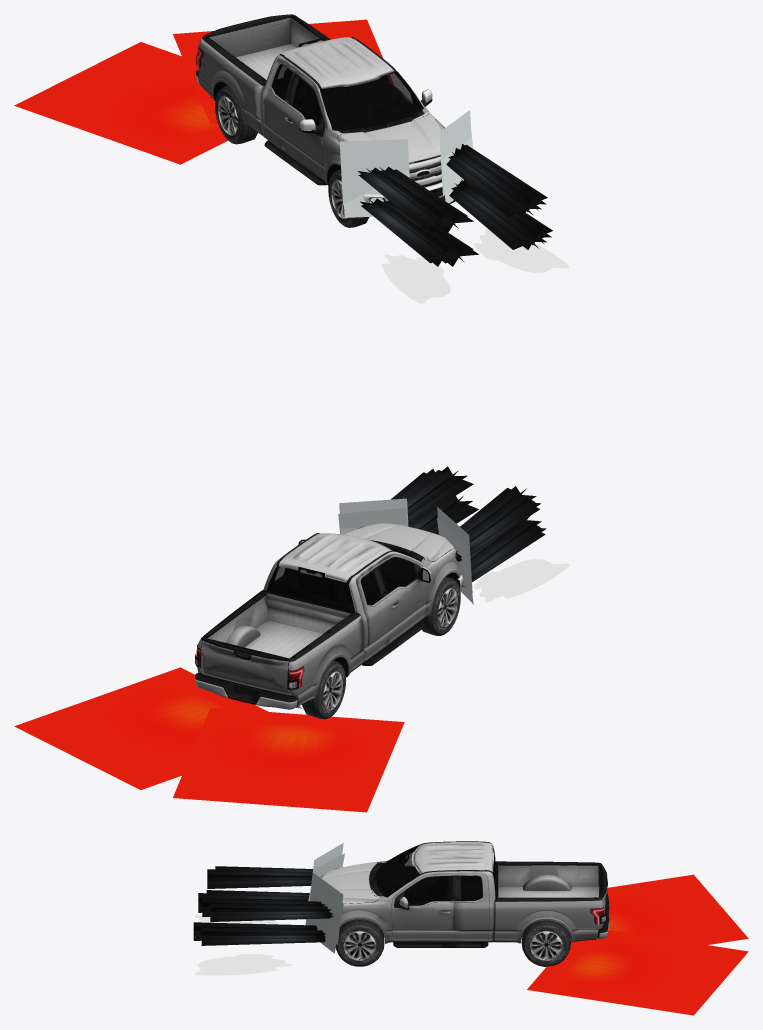
The picture shows the model from 3 angles, top to bottom: view 1: azimuth 30°, elevation 25°; view 2: azimuth 150°, elevation 25°; view 3: azimuth 270°, elevation 25°; orthographic projection. The views are drawn at different scales.
Visible parts, largest first — view 1: TailLightFlareGroundR, F1502015_Chassis, lights_position_front_glows2, lights_position_front_glows3, F1502015_glasses, HeadLightFlare, F1502015_Interior, F1502015_chassis_cargo, TailLightFlareGroundL, F1502015_trunk_cargo, HeadLightFlareGroundR, F1502015_hood (+4 smaller); view 2: TailLightFlareGroundR, TailLightFlareGroundL, F1502015_Chassis, F1502015_chassis_cargo, lights_position_front_glows2, F1502015_glasses, HeadLightFlare, lights_position_front_glows3, F1502015_trunk, F1502015_Interior, HeadLightFlareGroundR, F1502015_hood (+3 smaller); view 3: F1502015_Chassis, TailLightFlareGroundL, TailLightFlareGroundR, lights_position_front_glows2, F1502015_chassis_cargo, lights_position_front_glows3, F1502015_glasses, HeadLightFlare, F1502015_WheelBL, F1502015_WheelFL, F1502015_Interior, F1502015_hood (+3 smaller).
Boxes of the visible parts, left/top/right/bottom form: TailLightFlareGroundR: left=14, top=42, right=227, bottom=164; F1502015_Chassis: left=198, top=14, right=445, bottom=185; lights_position_front_glows2: left=357, top=144, right=547, bottom=233; lights_position_front_glows3: left=360, top=179, right=552, bottom=266; F1502015_glasses: left=272, top=65, right=423, bottom=130; HeadLightFlare: left=339, top=110, right=473, bottom=217; F1502015_Interior: left=271, top=68, right=421, bottom=130; F1502015_chassis_cargo: left=202, top=14, right=441, bottom=183; TailLightFlareGroundL: left=173, top=19, right=393, bottom=124; F1502015_trunk_cargo: left=204, top=14, right=291, bottom=57; HeadLightFlareGroundR: left=382, top=254, right=450, bottom=303; F1502015_hood: left=337, top=111, right=443, bottom=163; TailLightFlareGroundR: left=173, top=707, right=404, bottom=812; TailLightFlareGroundL: left=14, top=667, right=299, bottom=789; F1502015_Chassis: left=197, top=526, right=460, bottom=706; F1502015_chassis_cargo: left=201, top=554, right=456, bottom=667; lights_position_front_glows2: left=391, top=466, right=541, bottom=561; F1502015_glasses: left=268, top=543, right=416, bottom=611; HeadLightFlare: left=338, top=498, right=473, bottom=604; lights_position_front_glows3: left=408, top=496, right=546, bottom=588; F1502015_trunk: left=201, top=640, right=290, bottom=694; F1502015_Interior: left=269, top=547, right=418, bottom=610; HeadLightFlareGroundR: left=474, top=559, right=569, bottom=602; F1502015_hood: left=343, top=523, right=454, bottom=561; F1502015_Chassis: left=335, top=841, right=603, bottom=943; TailLightFlareGroundL: left=527, top=930, right=748, bottom=1015; TailLightFlareGroundR: left=607, top=874, right=748, bottom=955; lights_position_front_glows2: left=202, top=866, right=333, bottom=921; F1502015_chassis_cargo: left=400, top=861, right=601, bottom=947; lights_position_front_glows3: left=193, top=890, right=325, bottom=945; F1502015_glasses: left=376, top=845, right=494, bottom=905; HeadLightFlare: left=305, top=843, right=344, bottom=953; F1502015_WheelBL: left=521, top=920, right=570, bottom=966; F1502015_WheelFL: left=335, top=919, right=384, bottom=966; F1502015_Interior: left=374, top=862, right=481, bottom=904; F1502015_hood: left=320, top=861, right=380, bottom=903.
Size of the model in its own units: 5.51 by 1.69 by 12.15.
